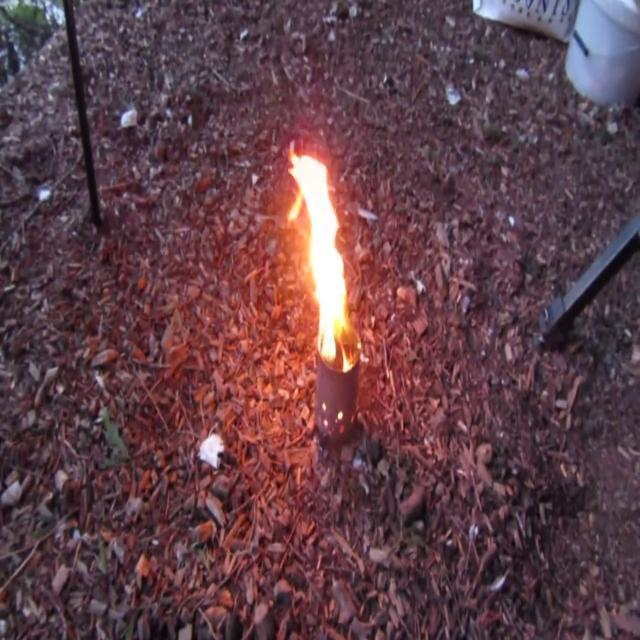Fire: (274, 146, 357, 368)
